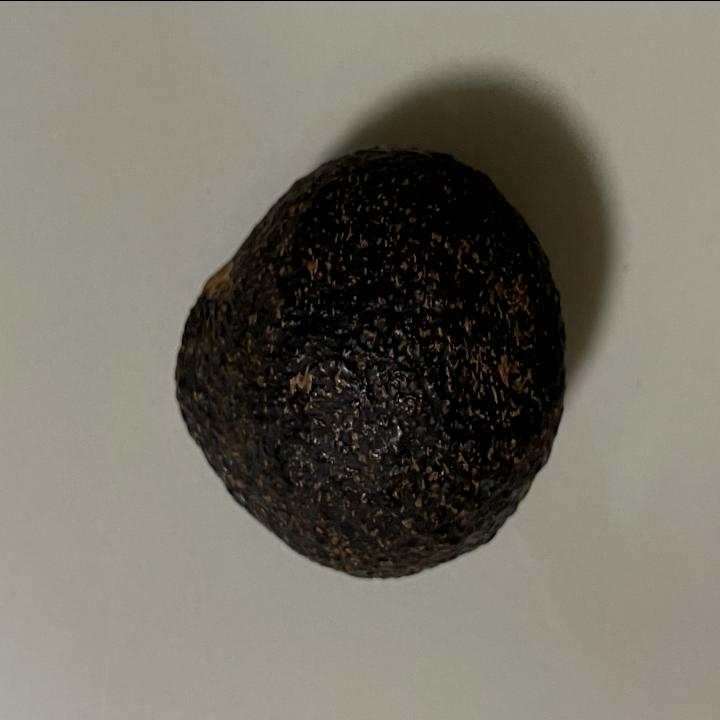Level2: (170, 134, 574, 588)
